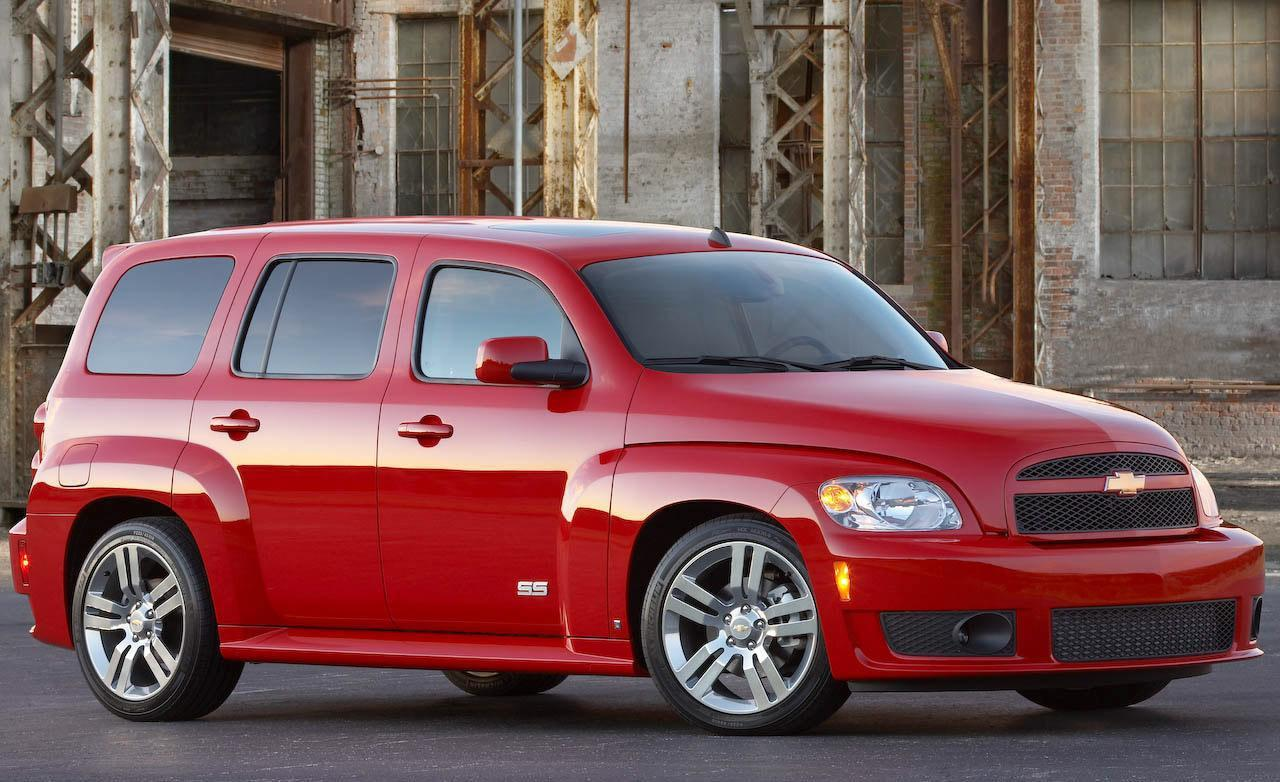Car: (7, 203, 1280, 754)
